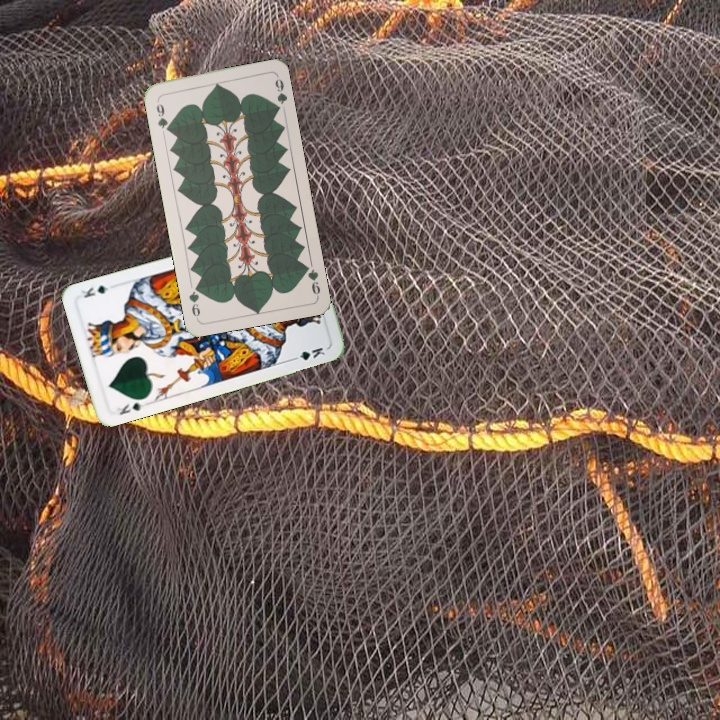G9: (300, 260, 323, 299), (152, 95, 172, 134)
GK: (111, 398, 146, 418)
